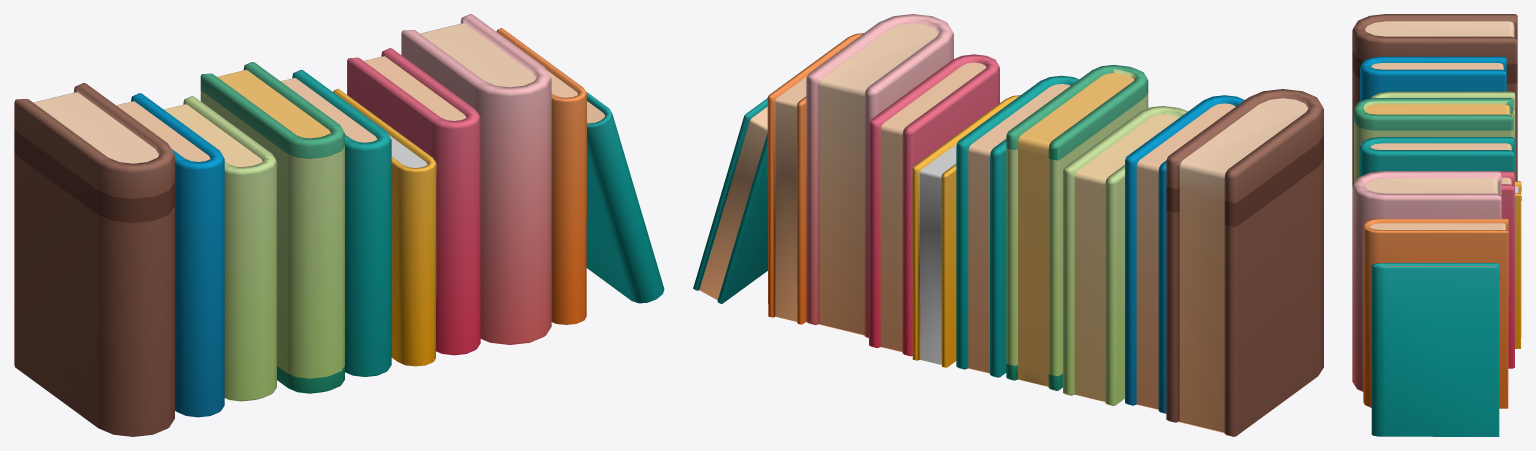
Rendered from Book_03.fbx.
3 renders of one model, left to right at view 1: azimuth 30°, elevation 25°; view 2: azimuth 150°, elevation 25°; view 3: azimuth 270°, elevation 25°, orthographic. The views are drawn at different scales.
Visible parts, largest first — view 1: Book_03; view 2: Book_03; view 3: Book_03.
Part boxes in pixels (x1,y1,x2,y2): Book_03: (14, 14, 664, 436); Book_03: (693, 14, 1323, 436); Book_03: (1352, 14, 1521, 436).
Size of the model in its own units: 0.6973 by 0.3198 by 0.2293.
